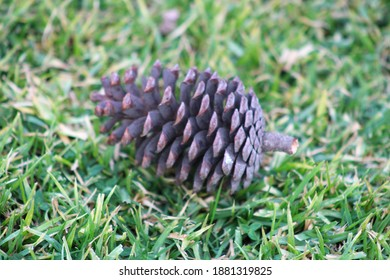Pc: (97, 58, 296, 185)
